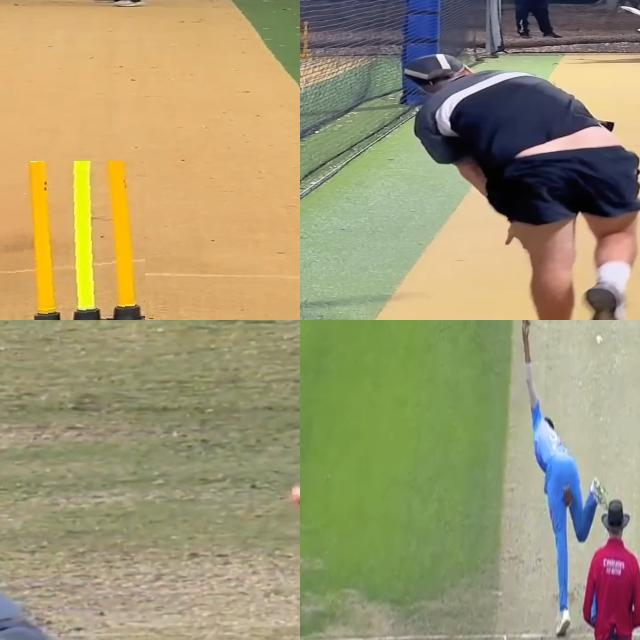Cricket ball: (594, 332, 604, 349)
Stumps: (2, 160, 144, 320)
